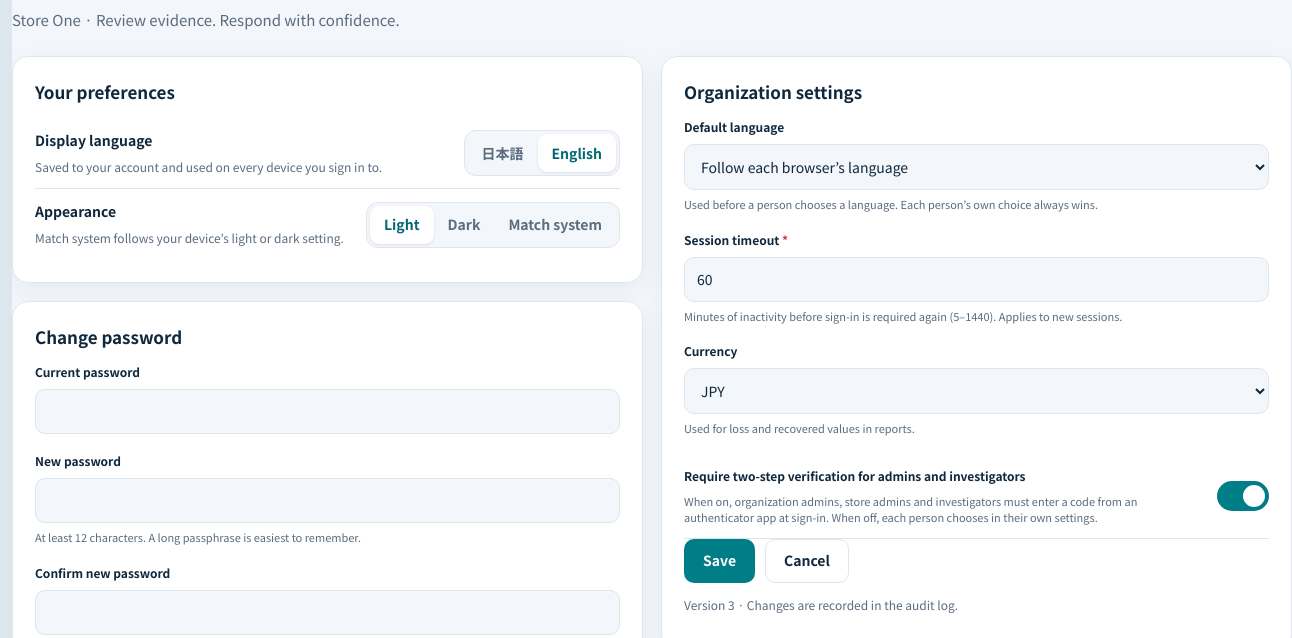
Test: Settings › Two-step verification (web-49) › lets an organization admin make the authenticator optional
This screenshot has width=1292, height=638.
Step 1. Click the switch named "Require two-step verification for admins and investigators" → [1243, 496], box 1217,481 -> 1269,511
(page scrolled)
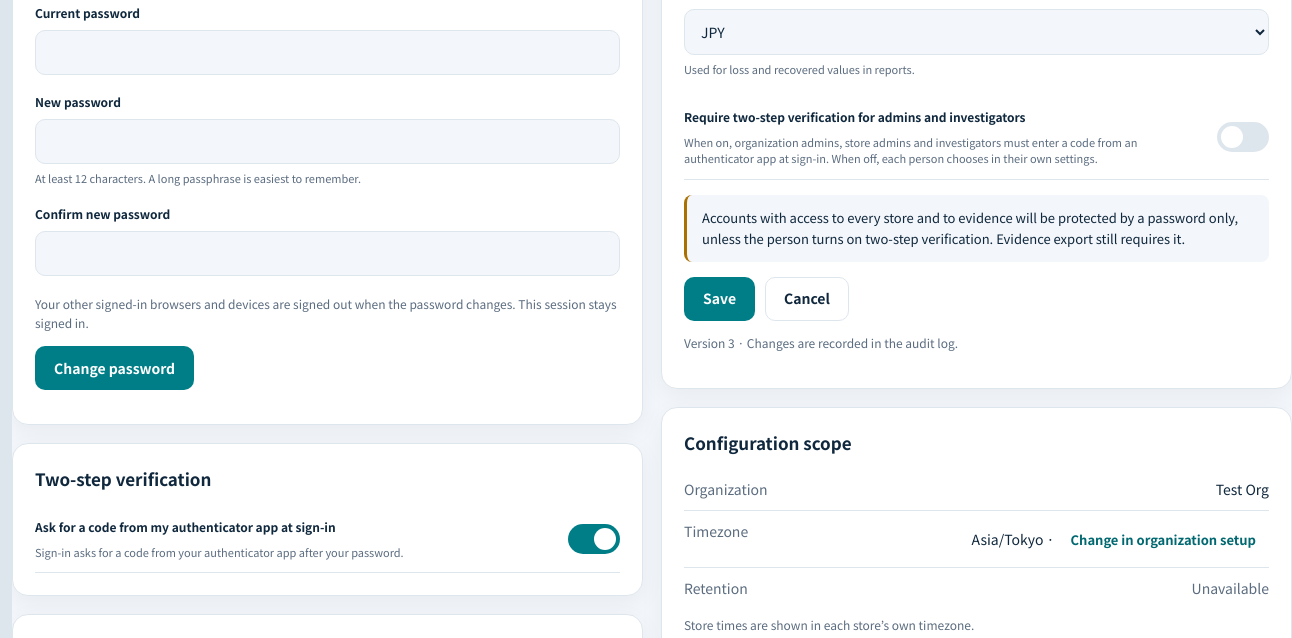
expect the text "protected by a password only" is shown: met, box 702,208 -> 1238,248
Step 2. Click the button "Save" → [720, 299], box 684,277 -> 755,321
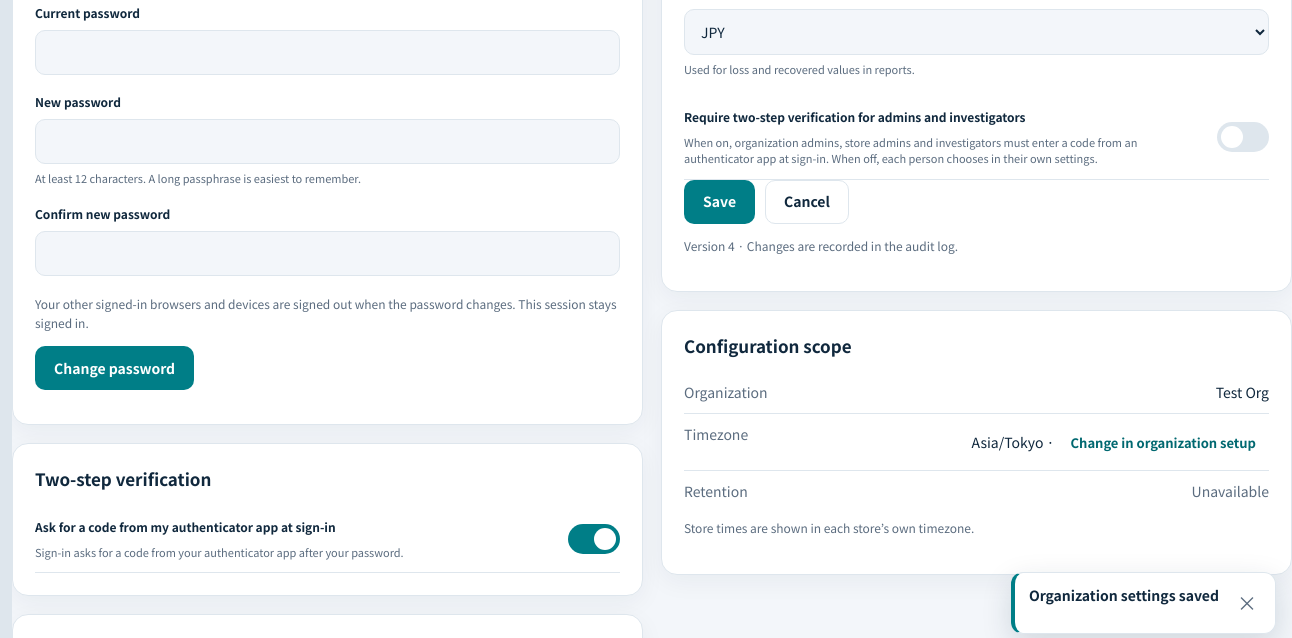
expect the text "Organization settings saved" is shown: met, box 1029,585 -> 1219,605
